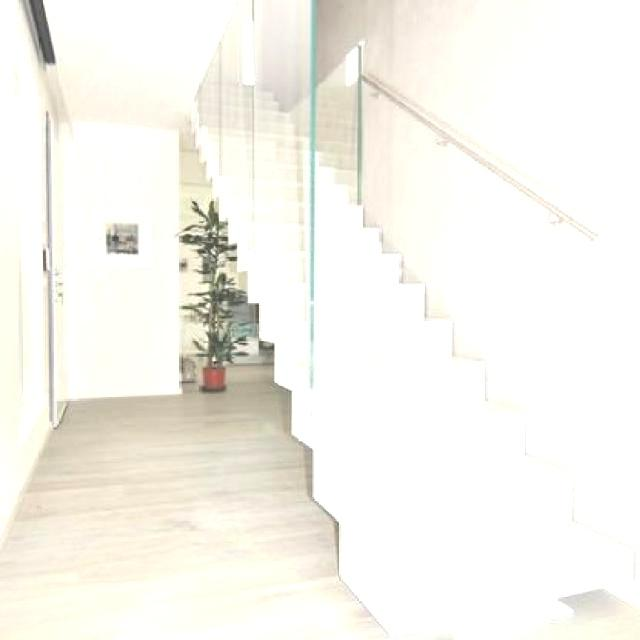stair: (178, 64, 640, 618)
